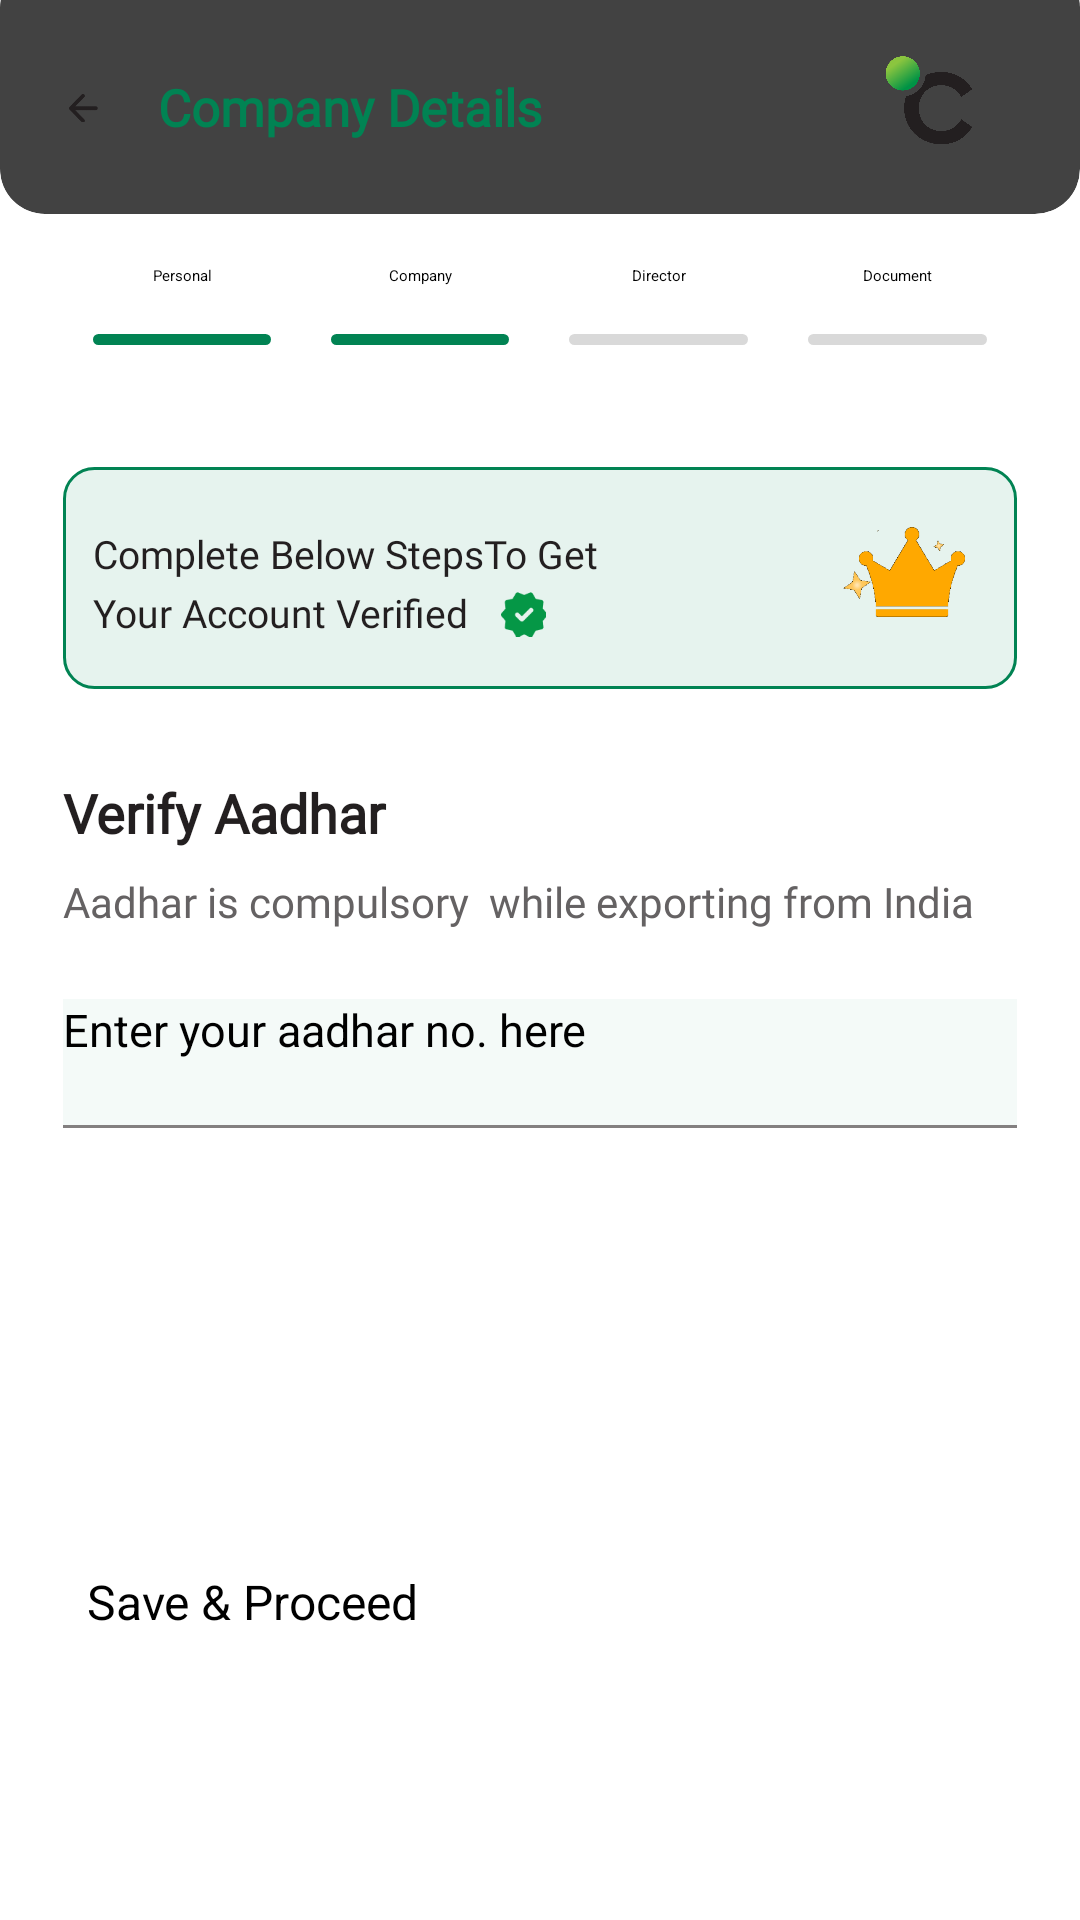

Point at icon controls on the screen. Image size 1080*1920, points as point (x, y).
arrow back: point (83, 108)
